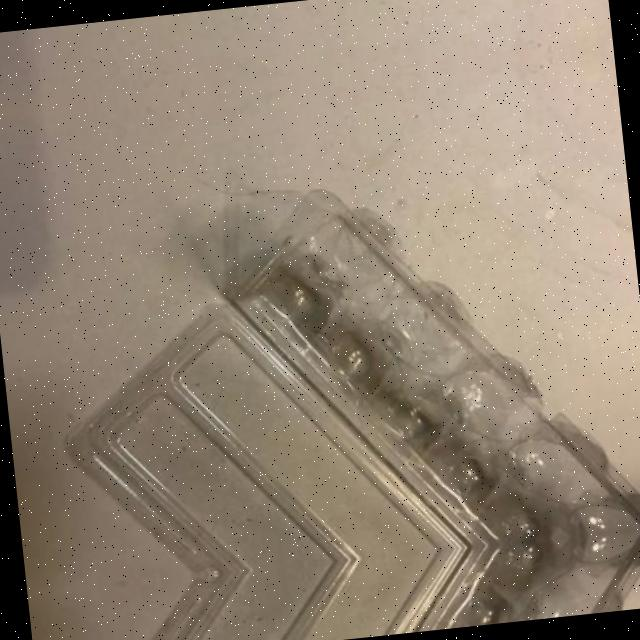Plastic: (38, 150, 640, 587), (77, 525, 640, 640)
